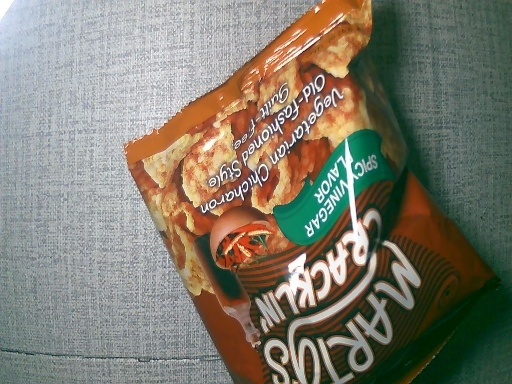plastic: (120, 9, 497, 384)
